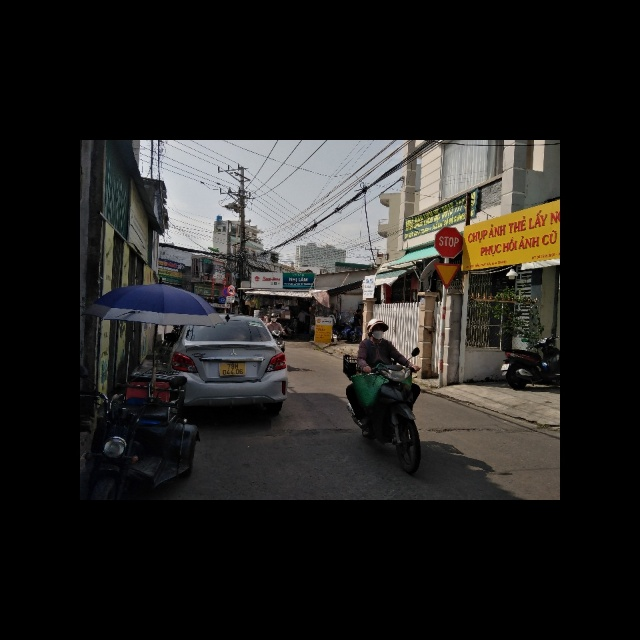Dừng lại: (433, 225, 463, 257)
Giao nhau với đường ưu tiên: (432, 262, 461, 289)
